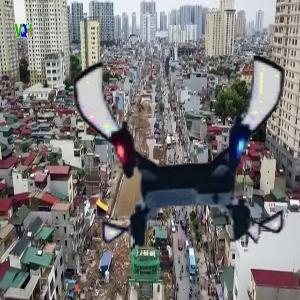drone: (72, 42, 289, 259)
